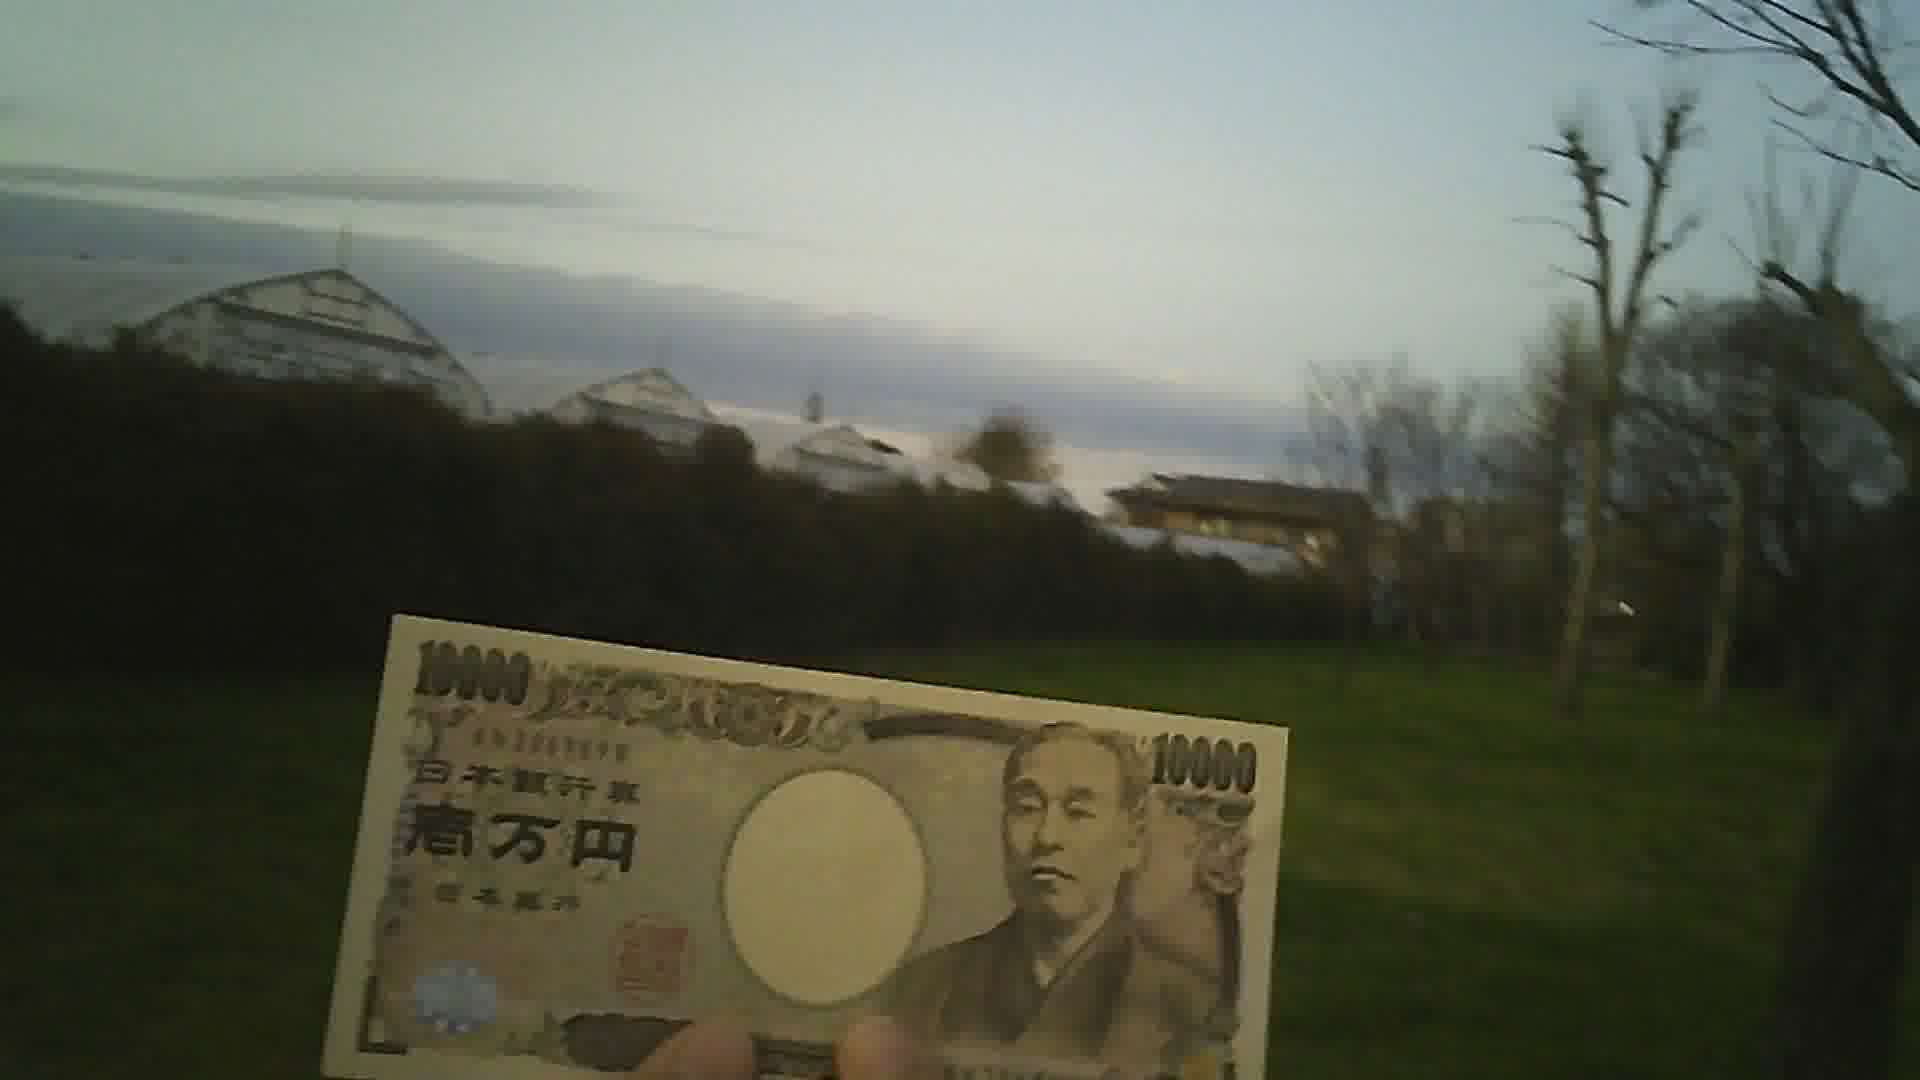10,000 Yen: (328, 601, 1315, 1073)
